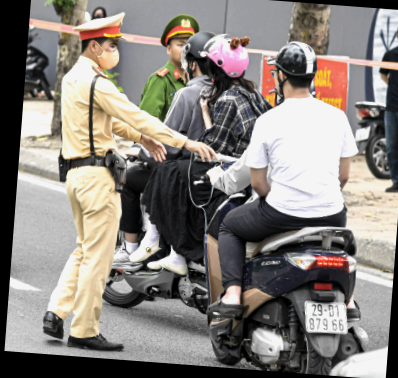Bien-so: (300, 298, 351, 338)
